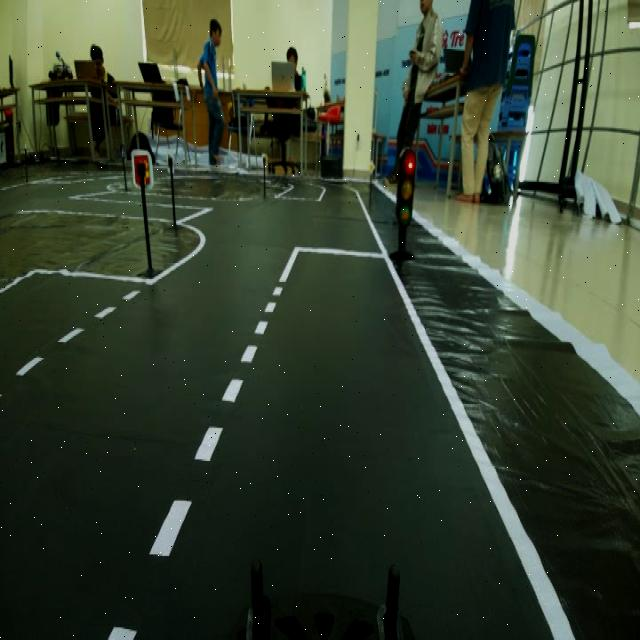trafficlight: (386, 136, 424, 296)
